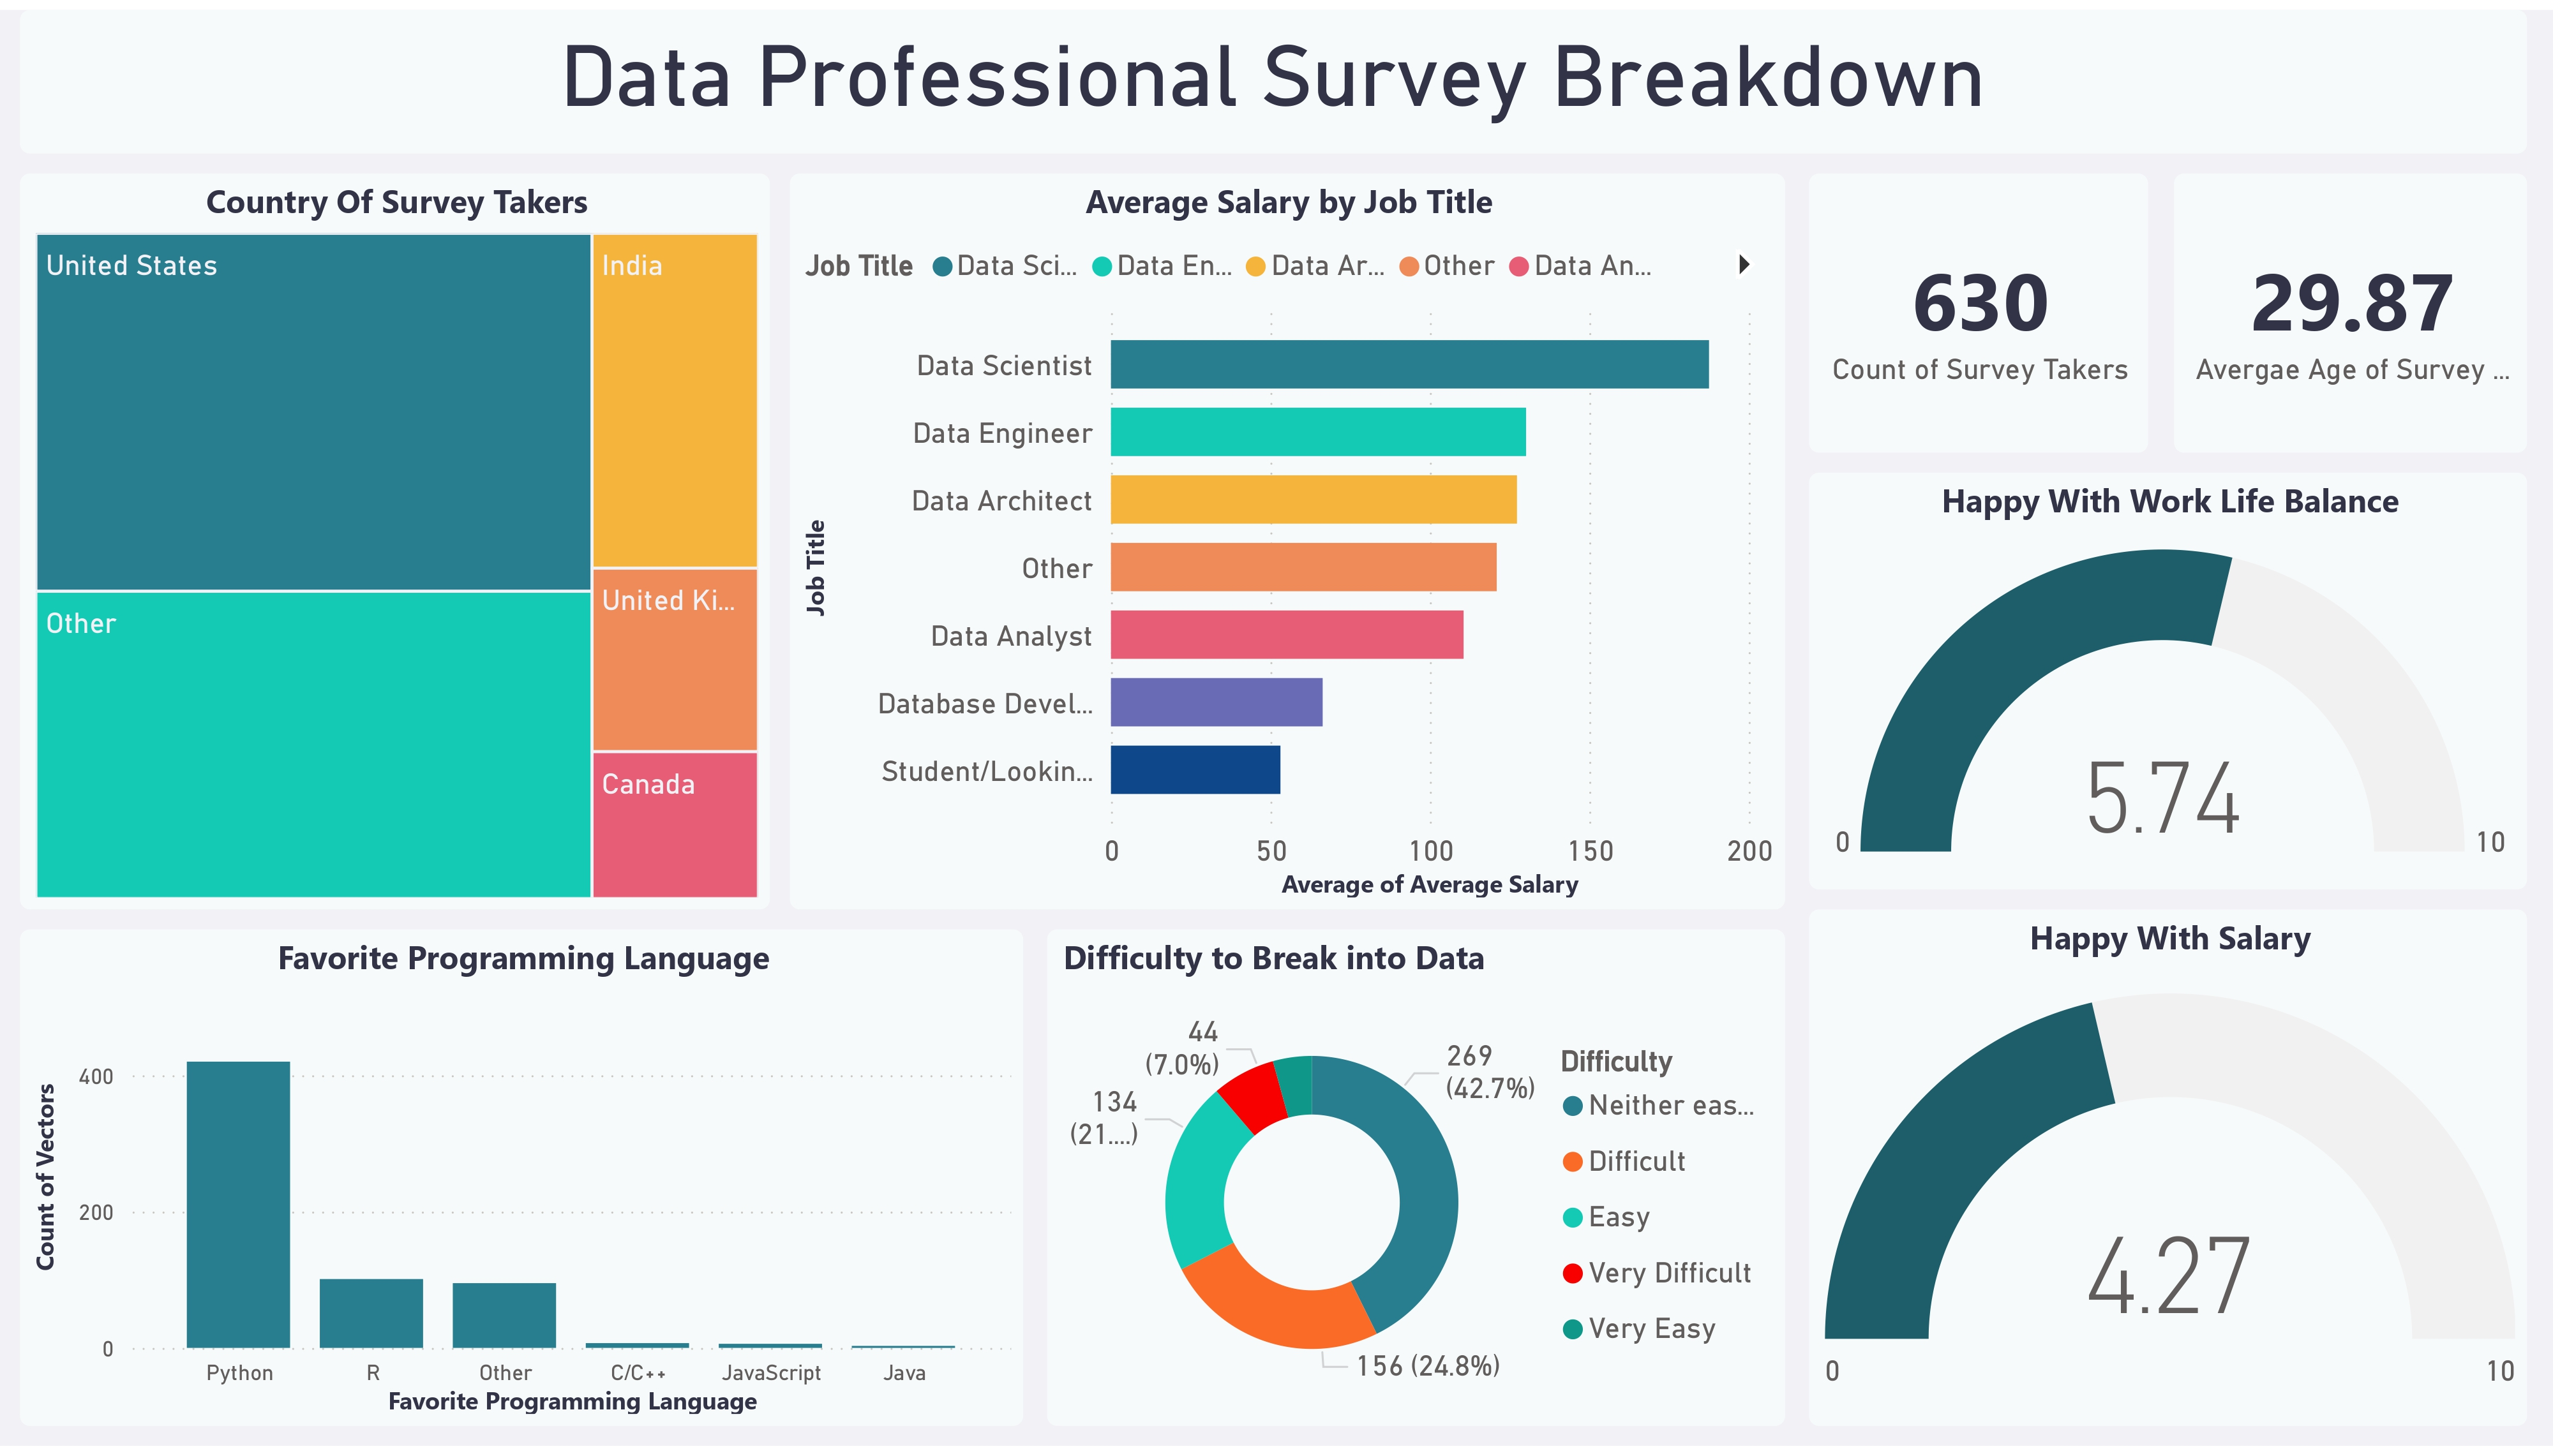

The page's visual inventory and layout, read from the dashboard file:
{"tool":"powerbi","page":{"name":"Page 1","canvas":[1280,720],"ordinal":0},"visuals":[{"type":"textbox","box":[10.1,0,1256.9,72.1],"z":0},{"type":"card","fields":{"Values":["CountNonNull(Data Professional Survey.Unique ID)"]},"box":[906.7,82.2,170.1,139.8],"z":1000},{"type":"card","fields":{"Values":["Avg(Data Professional Survey.Q10 - Current Age)"]},"box":[1089.7,82.2,177.3,139.8],"z":2000},{"type":"barChart","title":"Average Salary by Job Title","fields":{"Category":["Data Professional Survey.Q1 - Which Title Best Fits your Current Role?.1"],"Y":["Avg(Data Professional Survey.Average Salary)"],"Series":["Data Professional Survey.Q1 - Which Title Best Fits your Current Role?.1"]},"box":[396.4,82.2,498.7,369],"z":3000},{"type":"clusteredColumnChart","title":"Favorite Programming Language","fields":{"Category":["Data Professional Survey.Q5 - Favorite Programming Language.1"],"Y":["CountNonNull(Data Professional Survey.Unique ID)"]},"box":[10.1,461.3,503.1,249.4],"z":4000},{"type":"treemap","title":"Country Of Survey Takers","fields":{"Group":["Data Professional Survey.Q11 - Which Country do you live in?.1"],"Values":["CountNonNull(Data Professional Survey.Q11 - Which Country do you live in?.1)"]},"box":[10.1,82.2,376.2,369],"z":5000},{"type":"gauge","title":"Happy With Work Life Balance","fields":{"Y":["Avg(Data Professional Survey.Q6 - How Happy are you in your Current Position with the following? (Work/Life Balance))"],"MinValue":["Min(Data Professional Survey.Q6 - How Happy are you in your Current Position with the following? (Work/Life Balance))1"],"MaxValue":["Max(Data Professional Survey.Q6 - How Happy are you in your Current Position with the following? (Work/Life Balance))2"]},"box":[906.7,232.1,360.4,209],"z":6000},{"type":"gauge","title":"Happy With Salary","fields":{"TargetValue":["Sum(Data Professional Survey.Q6 - How Happy are you in your Current Position with the following? (Salary))"],"Y":["Avg(Data Professional Survey.Q6 - How Happy are you in your Current Position with the following? (Salary))"],"MinValue":["Min(Data Professional Survey.Q6 - How Happy are you in your Current Position with the following? (Salary))"],"MaxValue":["Max(Data Professional Survey.Q6 - How Happy are you in your Current Position with the following? (Salary))"]},"box":[906.7,451.2,360.4,259.5],"z":7000},{"type":"donutChart","title":"Difficulty to Break into Data","fields":{"Category":["Data Professional Survey.Q7 - How difficult was it for you to break into Data?"],"Y":["CountNonNull(Data Professional Survey.Q7 - How difficult was it for you to break into Data?)"]},"box":[524.7,461.3,370.5,249.4],"z":8000}]}

Visuals, with their boxes in screenshot pixels (x1, y1, x2, y2), scaled from the page's 1280x720 canvas onto the 2553x1456 screenshot:
textbox: 20, 0, 2527, 146
card - CountNonNull(Data Professional Survey.Unique ID): 1808, 167, 2148, 449
card - Avg(Data Professional Survey.Q10 - Current Age): 2173, 167, 2527, 449
"Average Salary by Job Title" barChart: 791, 167, 1785, 912
"Favorite Programming Language" clusteredColumnChart: 20, 933, 1024, 1437
"Country Of Survey Takers" treemap: 20, 167, 770, 912
"Happy With Work Life Balance" gauge: 1808, 470, 2527, 892
"Happy With Salary" gauge: 1808, 912, 2527, 1437
"Difficulty to Break into Data" donutChart: 1047, 933, 1786, 1437
